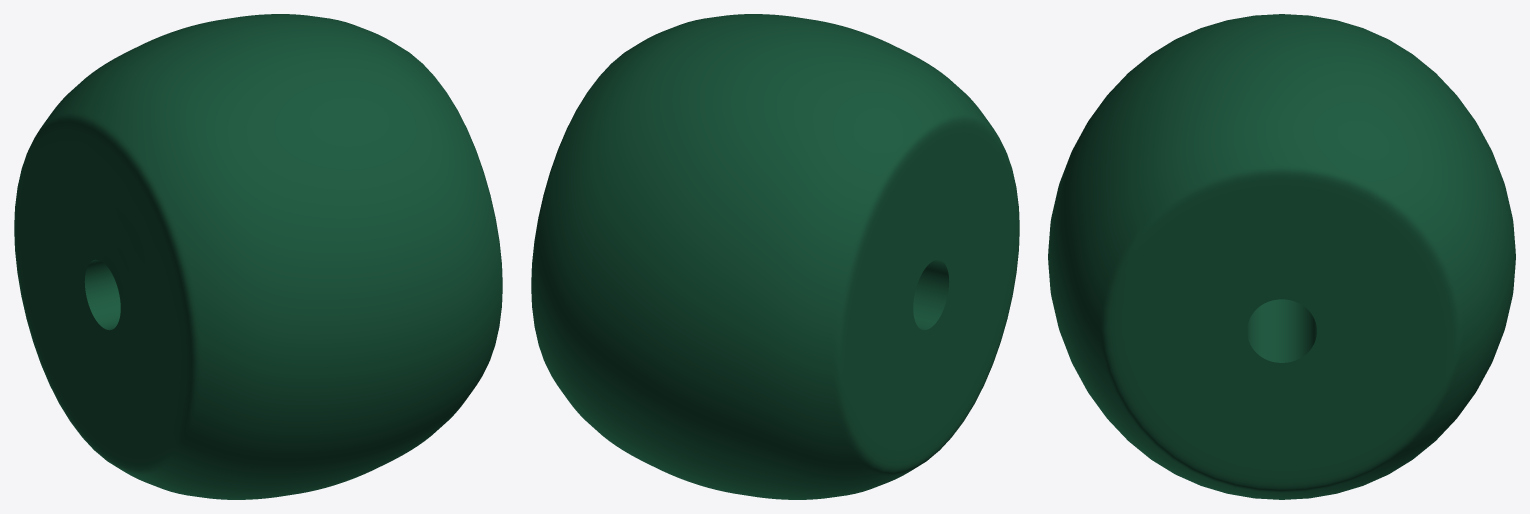
The model's file is 绿药片.gltf.
The picture shows the model from 3 angles, left to right: view 1: azimuth 30°, elevation 25°; view 2: azimuth 150°, elevation 25°; view 3: azimuth 270°, elevation 25°; orthographic projection. The views are drawn at different scales.
Parts seen in each view (by area): view 1: JewelCAD; view 2: JewelCAD; view 3: JewelCAD.
Part boxes in pixels (box(x1,y1,x2,y2)): JewelCAD: box(14, 14, 502, 499); JewelCAD: box(531, 14, 1019, 499); JewelCAD: box(1048, 14, 1515, 499).
Bounding box in the file's own units: 0.003 × 0.004 × 0.004.
